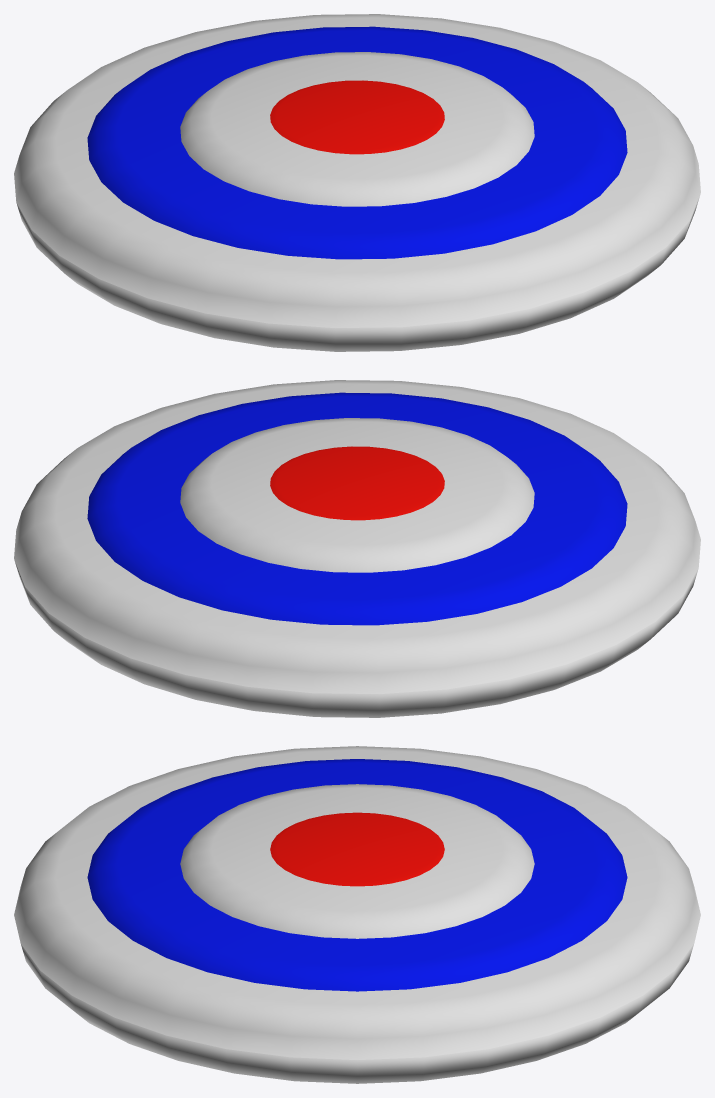
Rendered from Target Jab.fbx.
3 views of the same model, one above another, from view 1: azimuth 30°, elevation 25°; view 2: azimuth 150°, elevation 25°; view 3: azimuth 270°, elevation 25° (orthographic).
Visible parts, largest first — view 1: Cylinder, Cylinder.001, Cylinder.002, Cylinder.003; view 2: Cylinder, Cylinder.001, Cylinder.002, Cylinder.003; view 3: Cylinder, Cylinder.001, Cylinder.002, Cylinder.003.
Part boxes in pixels (x1,y1,x2,y2): Cylinder: (14, 14, 700, 351); Cylinder.001: (87, 26, 627, 259); Cylinder.002: (180, 52, 534, 206); Cylinder.003: (270, 80, 444, 154); Cylinder: (14, 380, 700, 717); Cylinder.001: (87, 392, 627, 625); Cylinder.002: (180, 418, 534, 572); Cylinder.003: (270, 446, 444, 520); Cylinder: (14, 746, 700, 1083); Cylinder.001: (87, 759, 627, 991); Cylinder.002: (180, 784, 534, 938); Cylinder.003: (270, 812, 444, 886).
Bounding box in the file's own units: 639 × 107 × 639.
